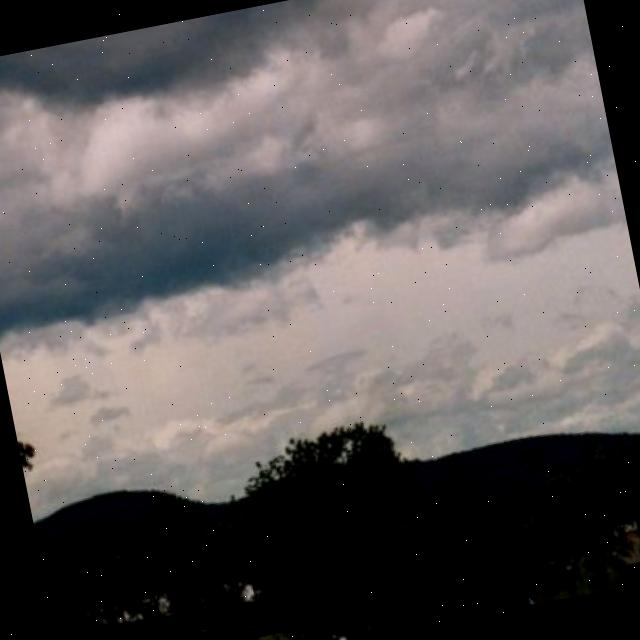Cs: (1, 1, 639, 404)
